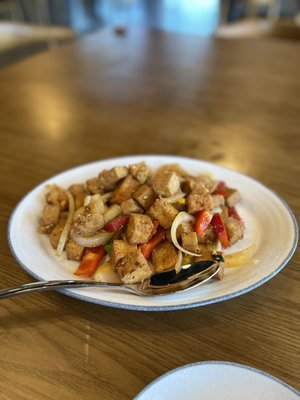burger: (0, 260, 225, 300)
sushi: (131, 361, 299, 400)
